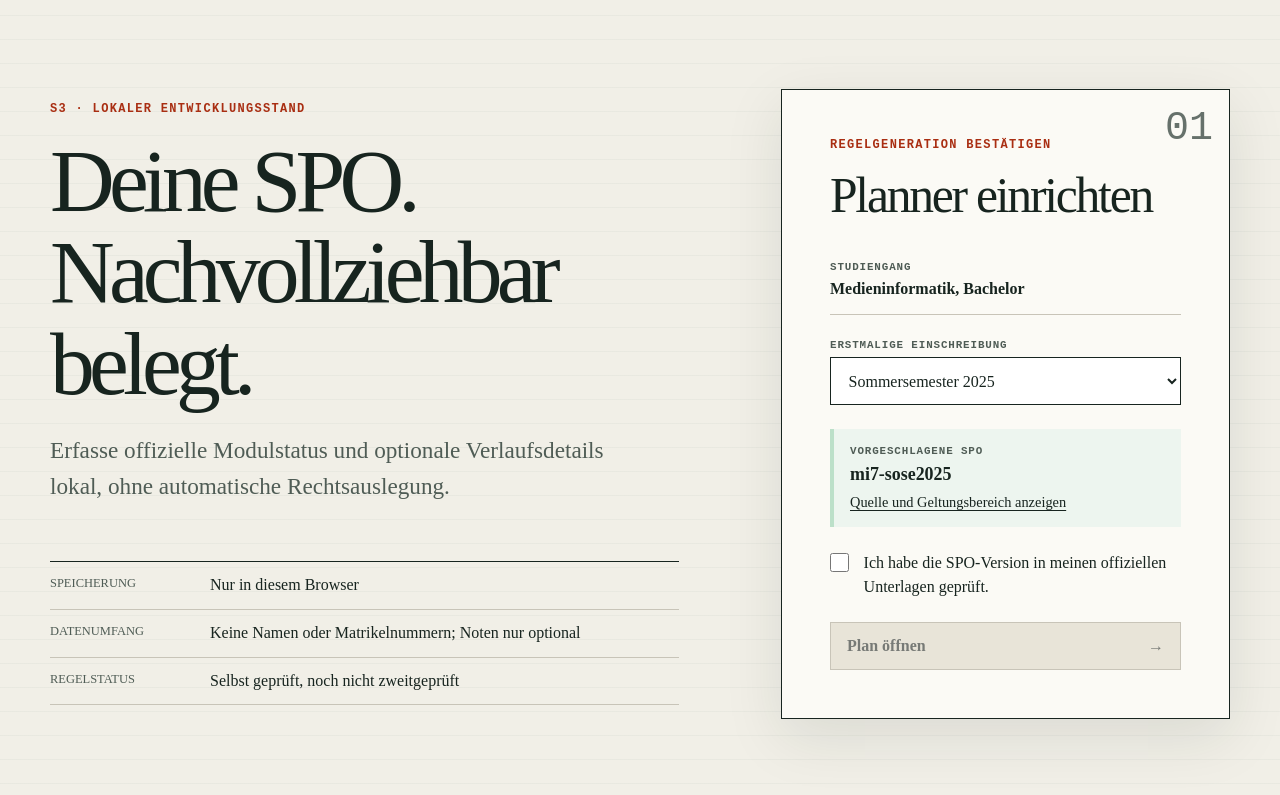
Scenario: S3-Semesterplanung › verschiebt ein Modul per Auswahl und macht die letzte Aktion rückgängig
Click the checkbox: (840, 562) [830, 553, 849, 572]
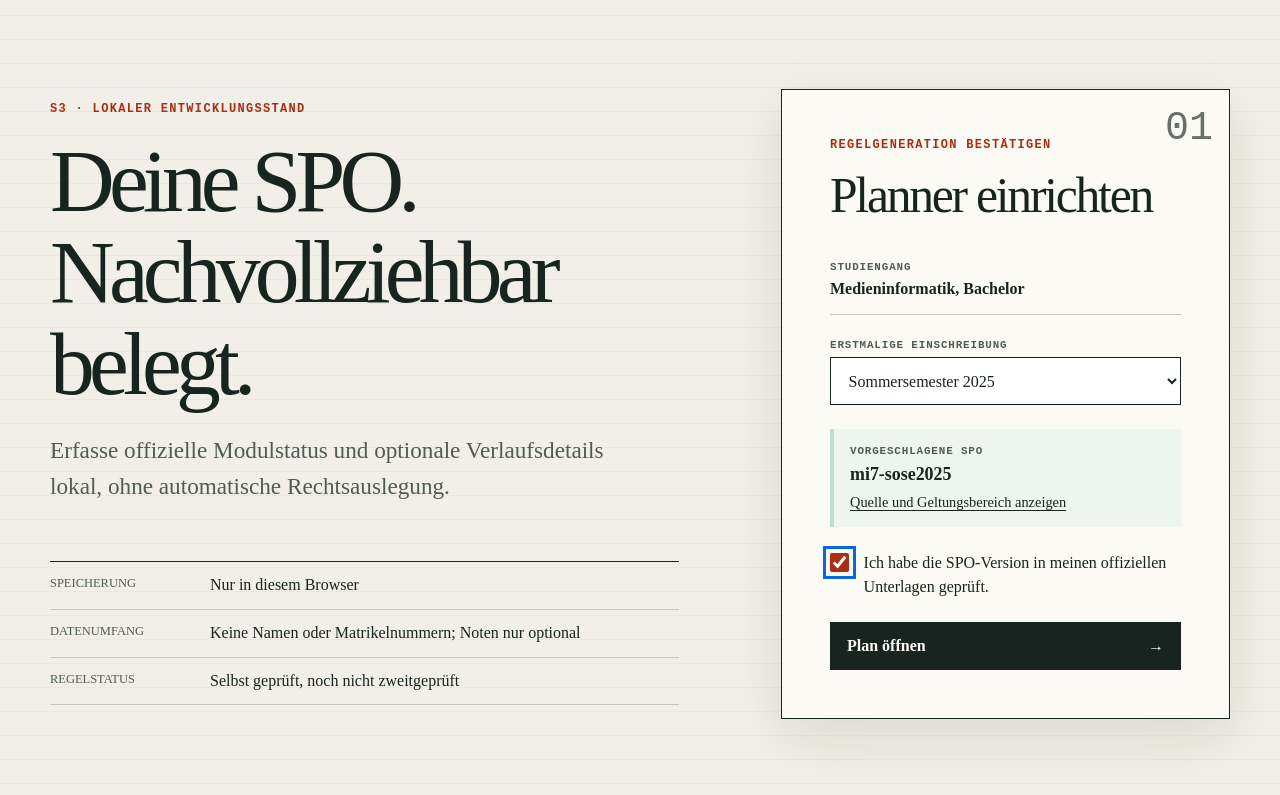
Click the button "Plan öffnen →": (886, 645) [830, 622, 1181, 670]
(page scrolled)
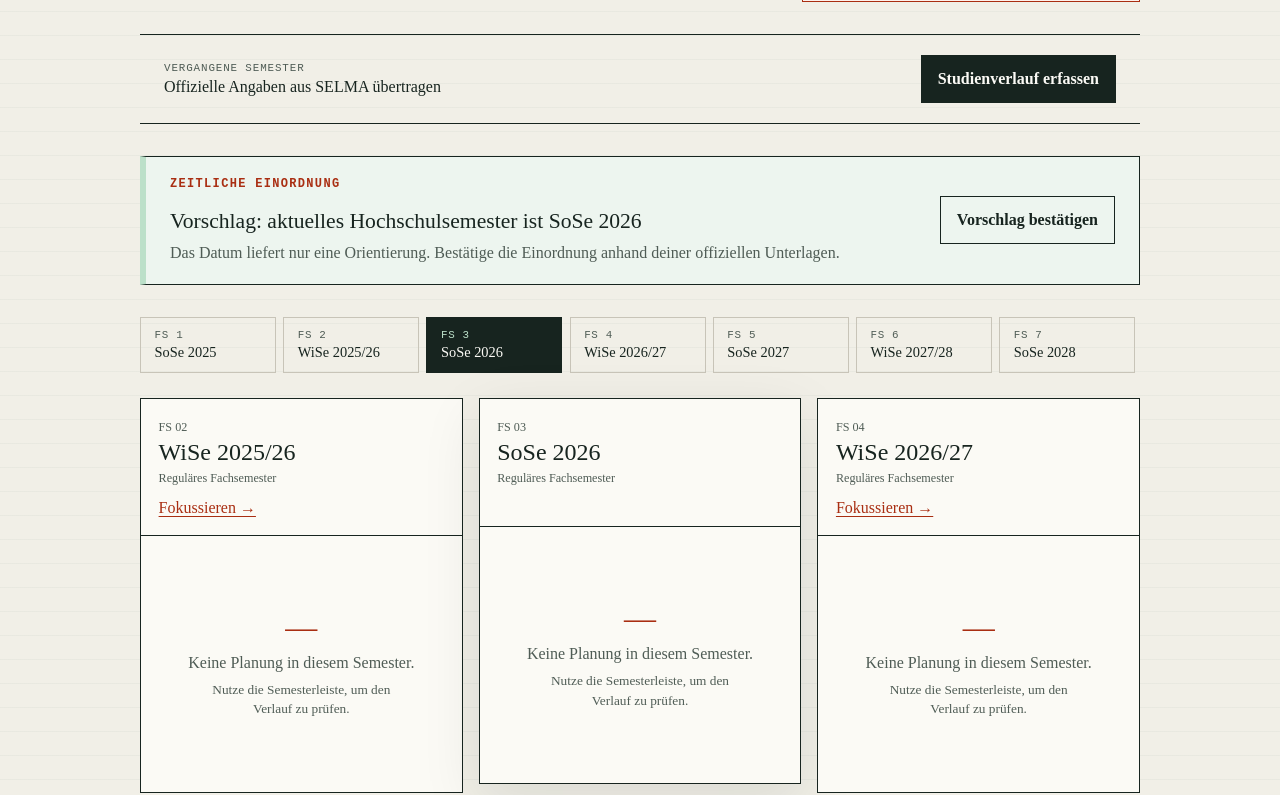
Click the button "FS 1 SoSe 2025": (208, 345) [140, 317, 276, 374]
(page scrolled)
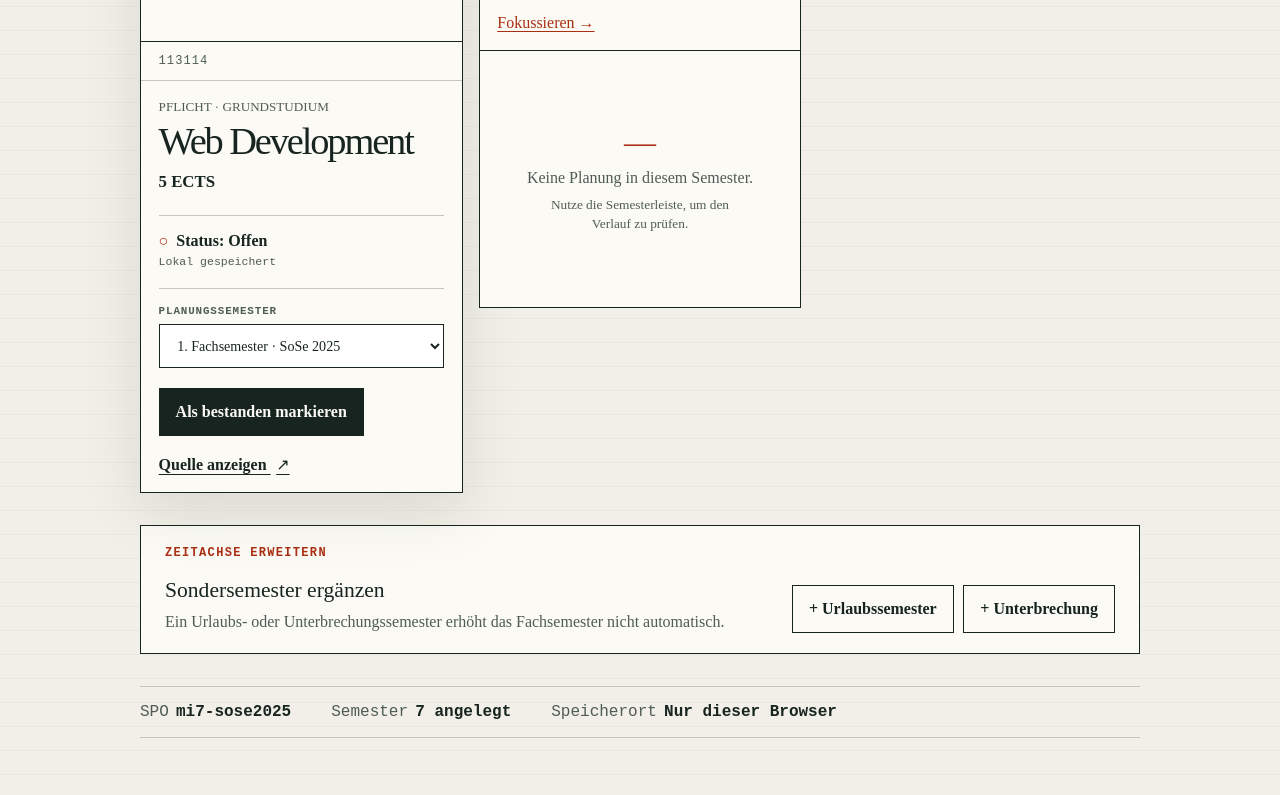
Expected: the dropdown labelled "Planungssemester" shows "1. Fachsemester · SoSe 2025"
Select "3. Fachsemester · SoSe 2026" in the dropdown labelled "Planungssemester": (301, 346) [159, 324, 444, 368]
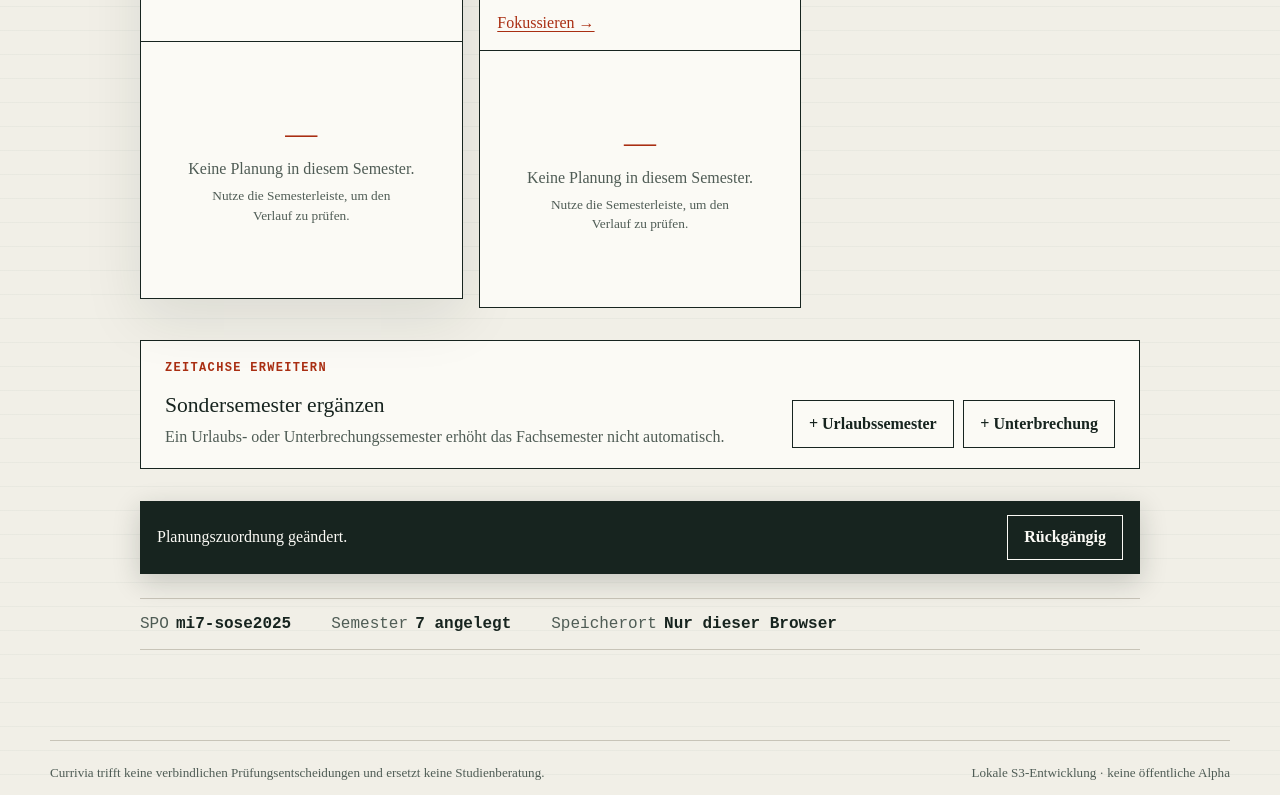
Expected: the button "Rückgängig" is shown
Click the button "Rückgängig": (1065, 538) [1007, 515, 1123, 560]
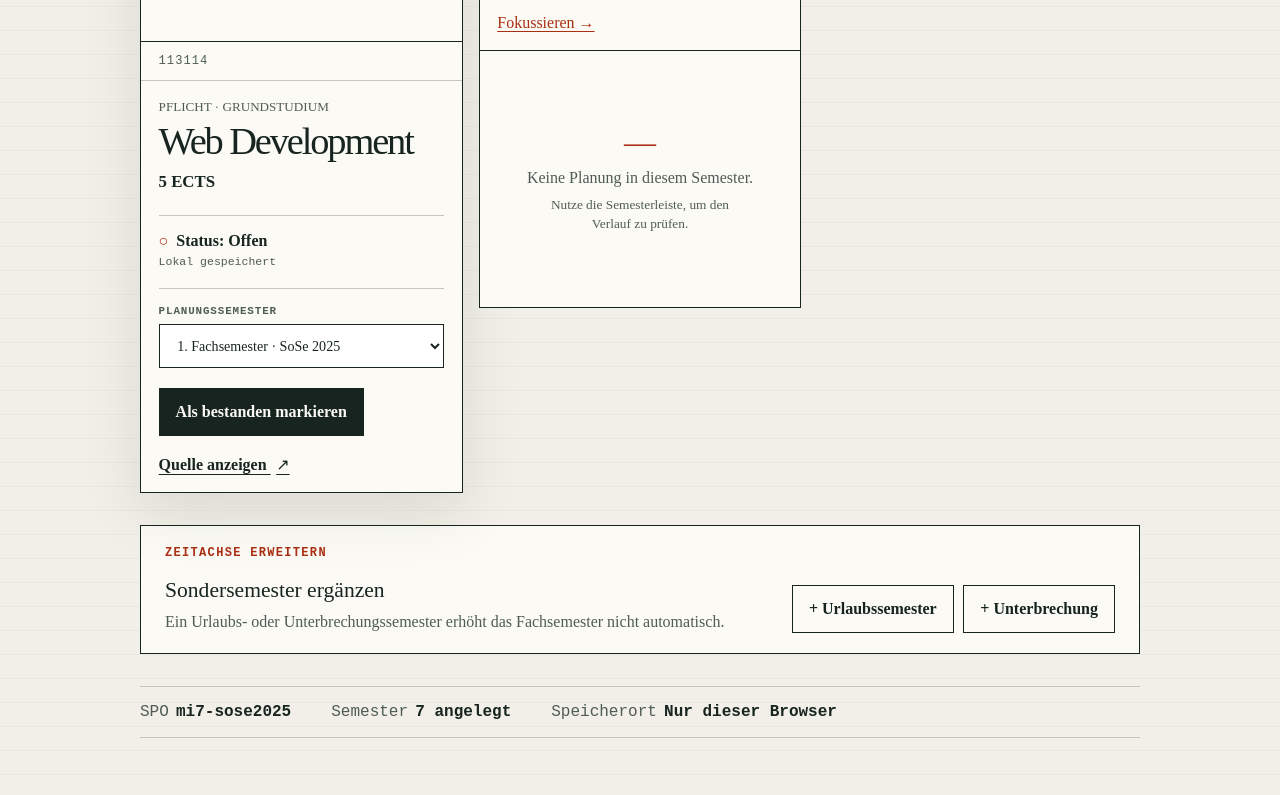
Expected: the dropdown labelled "Planungssemester" shows "1. Fachsemester · SoSe 2025", [159, 324, 444, 368]
